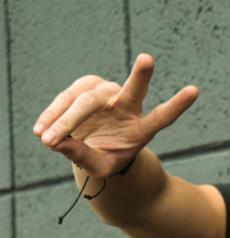front: (30, 50, 200, 185)
